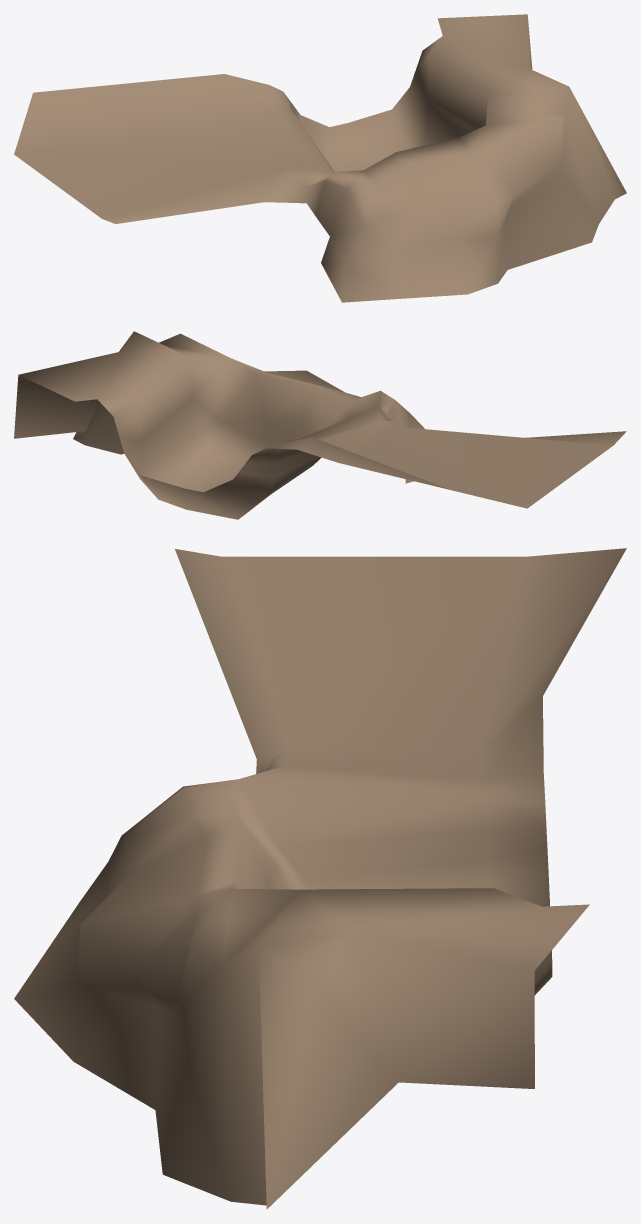
Rendered from Steg_4.fbx.
3 views of the same model, one above another, from view 1: azimuth 30°, elevation 25°; view 2: azimuth 150°, elevation 25°; view 3: azimuth 270°, elevation 25° (orthographic). The views are drawn at different scales.
Parts seen in each view (by area): view 1: Steg_4; view 2: Steg_4; view 3: Steg_4.
Boxes of the visible parts, x1=… form: Steg_4: x1=14, y1=14, x2=626, y2=302; Steg_4: x1=14, y1=331, x2=626, y2=519; Steg_4: x1=14, y1=548, x2=626, y2=1209.
Bounding box in the file's own units: 3604 × 1024 × 2056.
